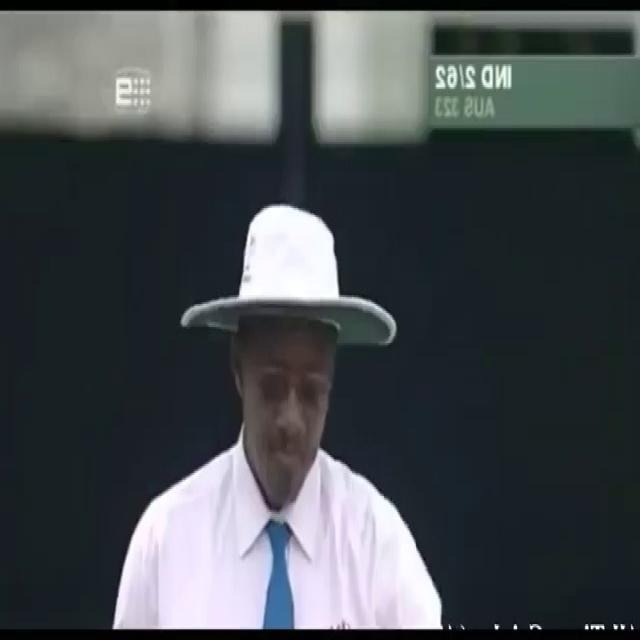No_Action: (101, 195, 455, 633)
